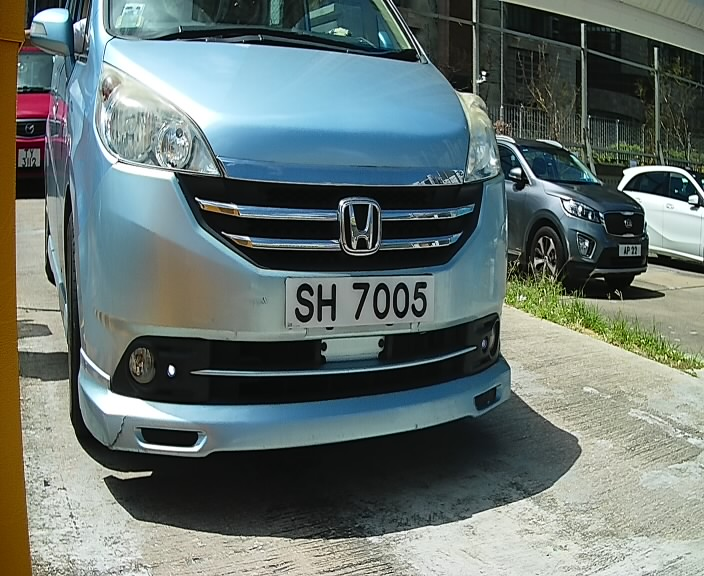Car: (36, 2, 542, 495)
License Plate: (276, 257, 445, 341)
